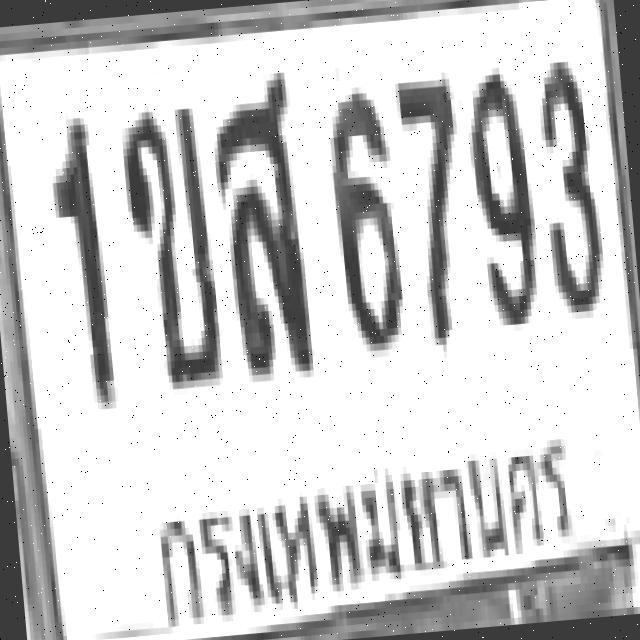1: (42, 110, 112, 405)
11KhorKhai: (115, 100, 219, 384)
3: (530, 49, 603, 310)
49SorSuea: (203, 64, 310, 370)
6: (321, 77, 402, 346)
7: (390, 71, 471, 340)
9: (462, 58, 539, 320)
Bangkok: (123, 428, 601, 636)
